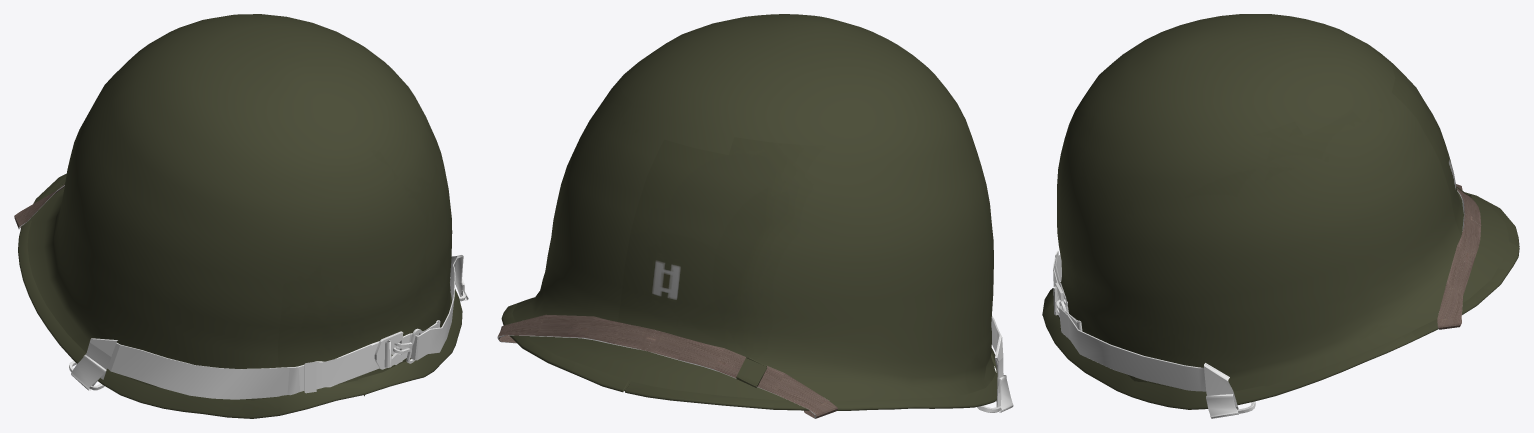
File: HelmetSoldier.fbx
The picture shows the model from 3 angles, left to right: view 1: azimuth 30°, elevation 25°; view 2: azimuth 150°, elevation 25°; view 3: azimuth 270°, elevation 25°; orthographic projection. The views are drawn at different scales.
Parts seen in each view (by area): view 1: M1_Shell, Chinstrap_Shell, M1_Shell.001, Chinstrap_2, Chinstrap_Leather; view 2: M1_Shell, Chinstrap_Leather, M1_Shell.001, Chinstrap_Shell, Chinstrap_Leather_Buckle; view 3: M1_Shell, M1_Shell.001, Chinstrap_2, Chinstrap_Leather, Chinstrap_Shell.
Part boxes in pixels (x1,y1,x2,y2): M1_Shell: (27,14,452,400); Chinstrap_Shell: (71,331,403,399); M1_Shell.001: (18,173,462,418); Chinstrap_2: (391,255,468,364); Chinstrap_Leather: (14,184,64,229); M1_Shell: (512,14,995,401); Chinstrap_Leather: (497,314,837,418); M1_Shell.001: (501,297,997,410); Chinstrap_Shell: (991,316,1013,412); Chinstrap_Leather_Buckle: (736,357,767,387); M1_Shell: (1057,14,1511,391); M1_Shell.001: (1042,192,1519,409); Chinstrap_2: (1059,283,1238,418); Chinstrap_Leather: (1437,184,1481,329); Chinstrap_Shell: (1053,250,1064,316).
Size of the model in its own units: 279 by 204 by 298.
